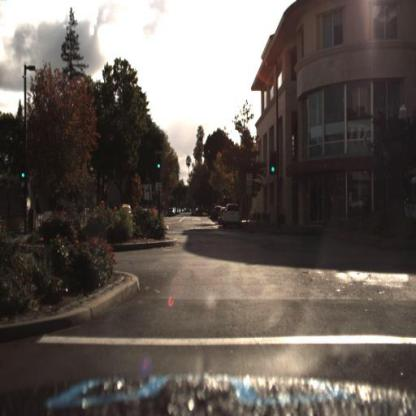car: (221, 207, 242, 236)
pedestrian: (363, 194, 373, 231)
trafficLight: (18, 156, 29, 185), (152, 150, 164, 176), (269, 155, 279, 181)
trafficLight-Green: (156, 151, 164, 176), (19, 164, 24, 187)
